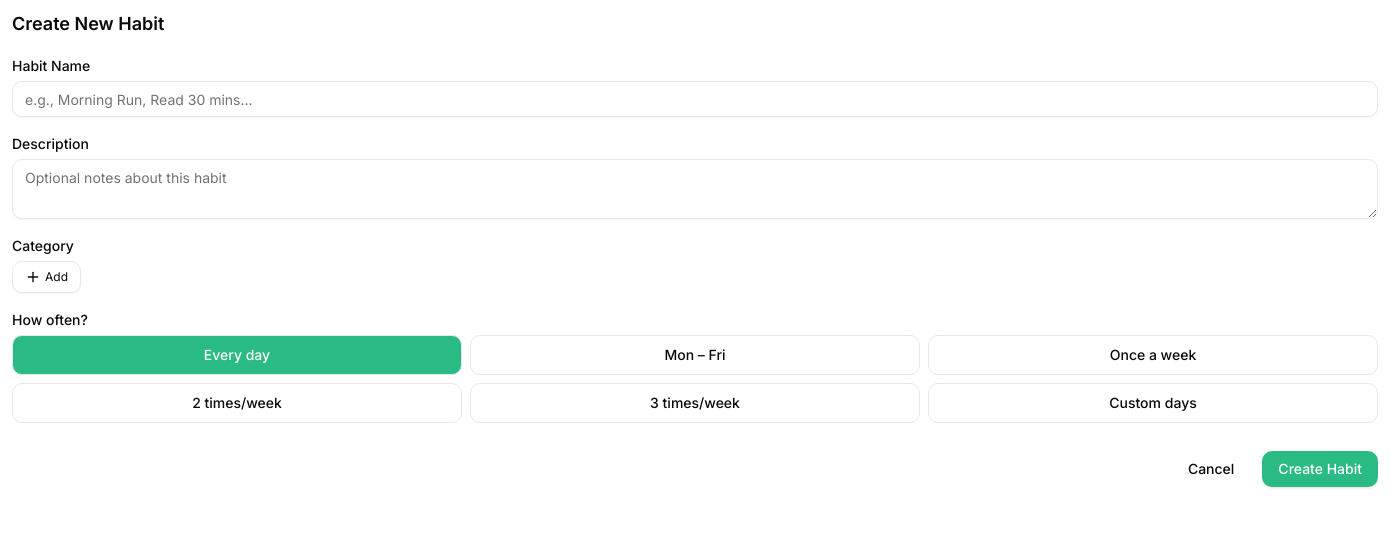
HabitForm › validation › shows error when name is empty on submit
The width and height of the screenshot is (1390, 533).
Click the button "Create Habit" at (1320, 469), box [1262,451,1378,487]
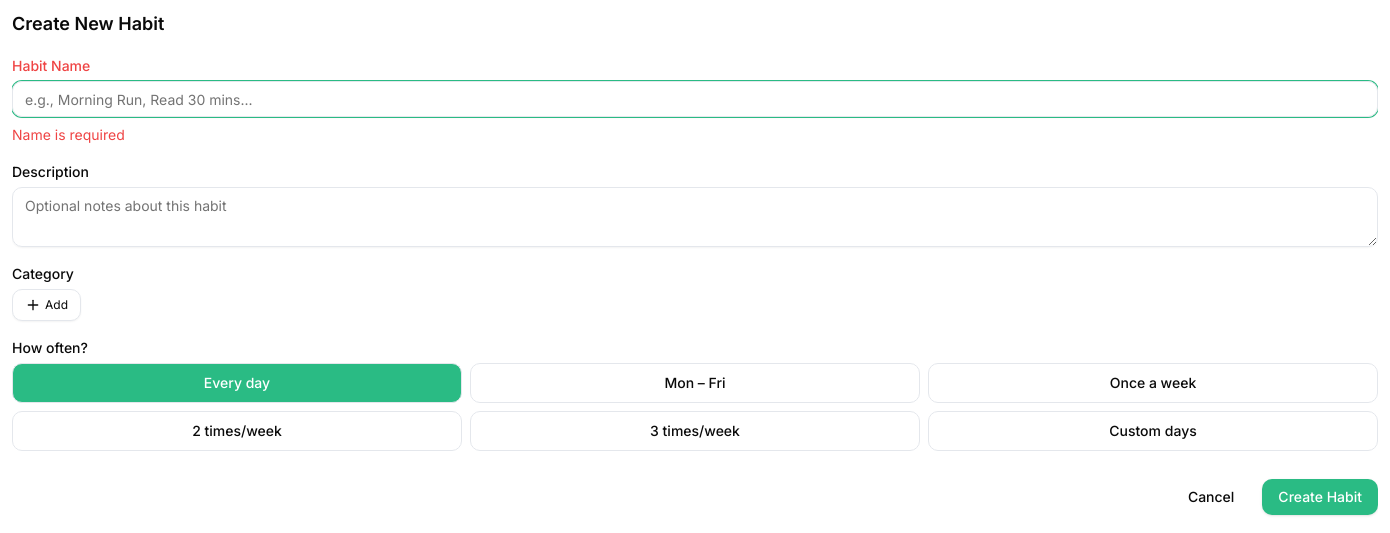
expect the text "Name is required" is shown: met, box [12,126,125,143]
